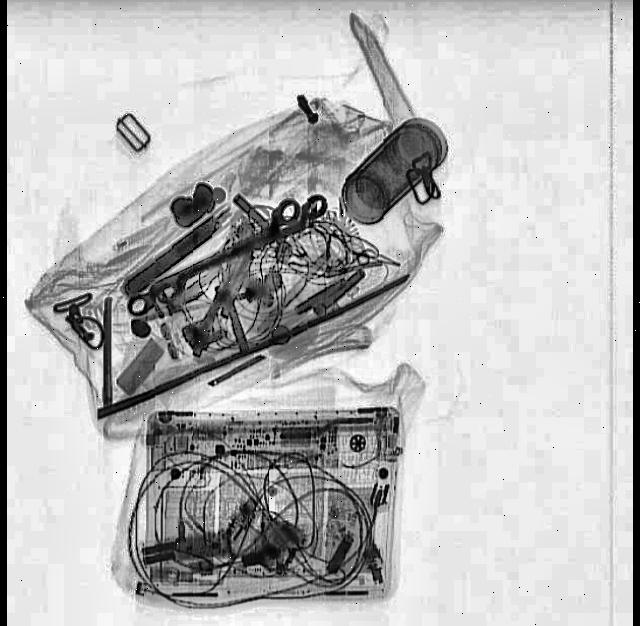Wrench: (125, 187, 332, 318)
